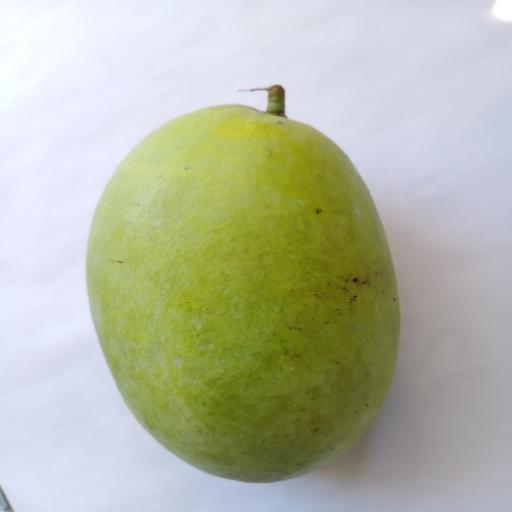mango-unripe: (65, 55, 412, 474)
